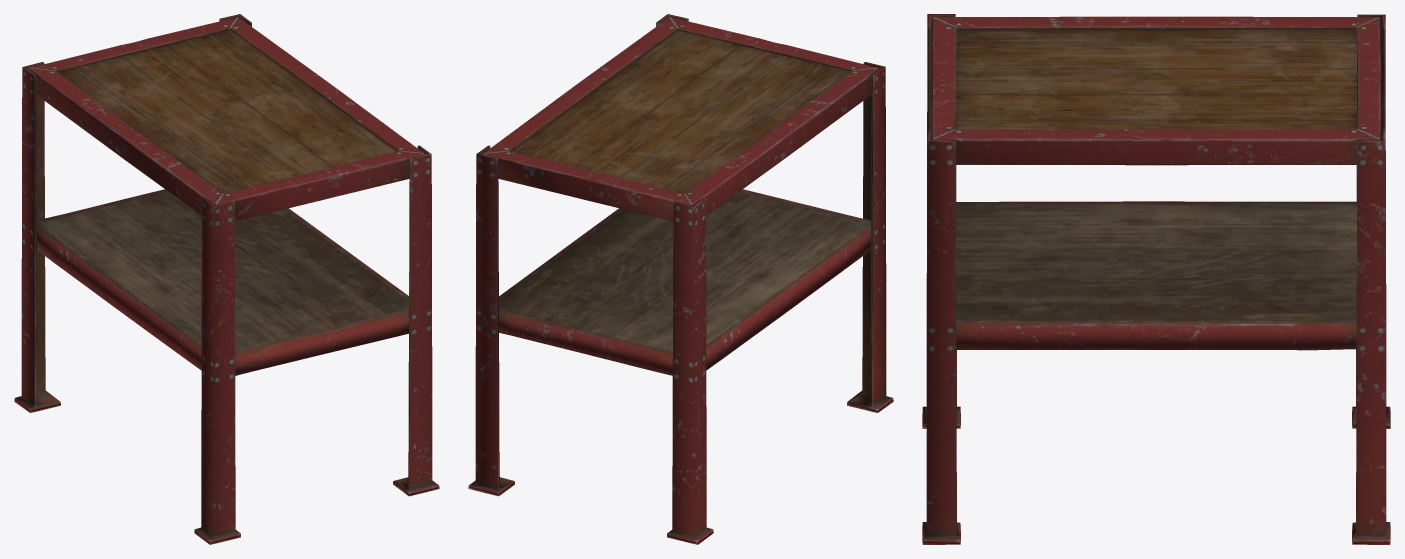
The model's file is table-opt.glb.
3 views of the same model, side by side, from view 1: azimuth 30°, elevation 25°; view 2: azimuth 150°, elevation 25°; view 3: azimuth 270°, elevation 25° (orthographic). The views are drawn at different scales.
Visible parts, largest first — view 1: defaultMaterial; view 2: defaultMaterial; view 3: defaultMaterial.
Boxes of the visible parts, bbox=[...] form: defaultMaterial: bbox=[14, 14, 439, 544]; defaultMaterial: bbox=[468, 14, 893, 544]; defaultMaterial: bbox=[922, 14, 1390, 544].
Size of the model in its own units: 0.6835 by 0.9524 by 1.01.
1 material, 1 textured.
